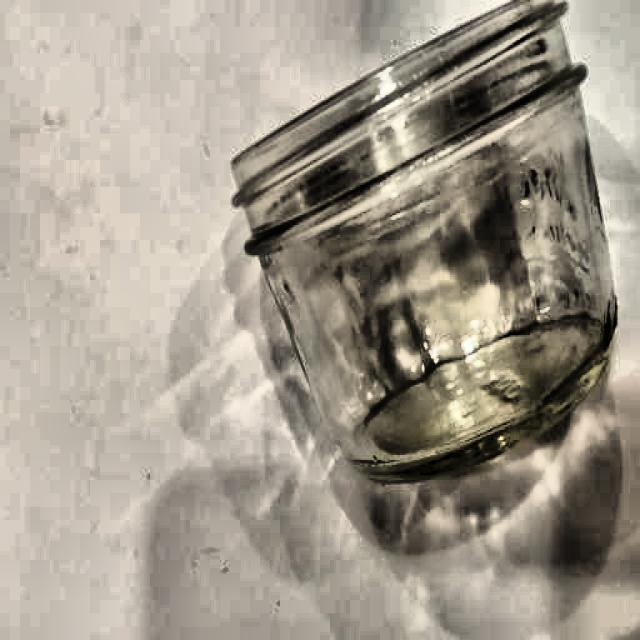glass: (227, 0, 625, 480)
